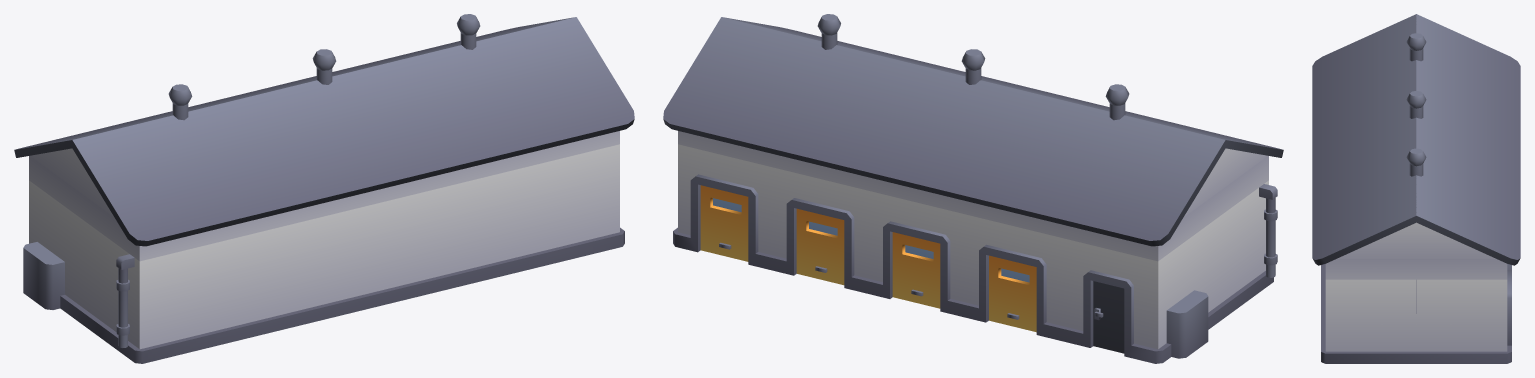
Rendered from warehouse_7.fbx.
3 views of the same model, side by side, from view 1: azimuth 30°, elevation 25°; view 2: azimuth 150°, elevation 25°; view 3: azimuth 270°, elevation 25° (orthographic). The views are drawn at different scales.
Parts seen in each view (by area): view 1: warehouse_7; view 2: warehouse_7; view 3: warehouse_7.
Boxes of the visible parts, x1,y1,x2,y2 form: warehouse_7: [14, 14, 634, 363]; warehouse_7: [663, 14, 1283, 363]; warehouse_7: [1312, 14, 1520, 363].
Bounding box in the file's own units: 2.12 × 0.8368 × 0.9163.
Materials: 2 (2 with a texture image).
